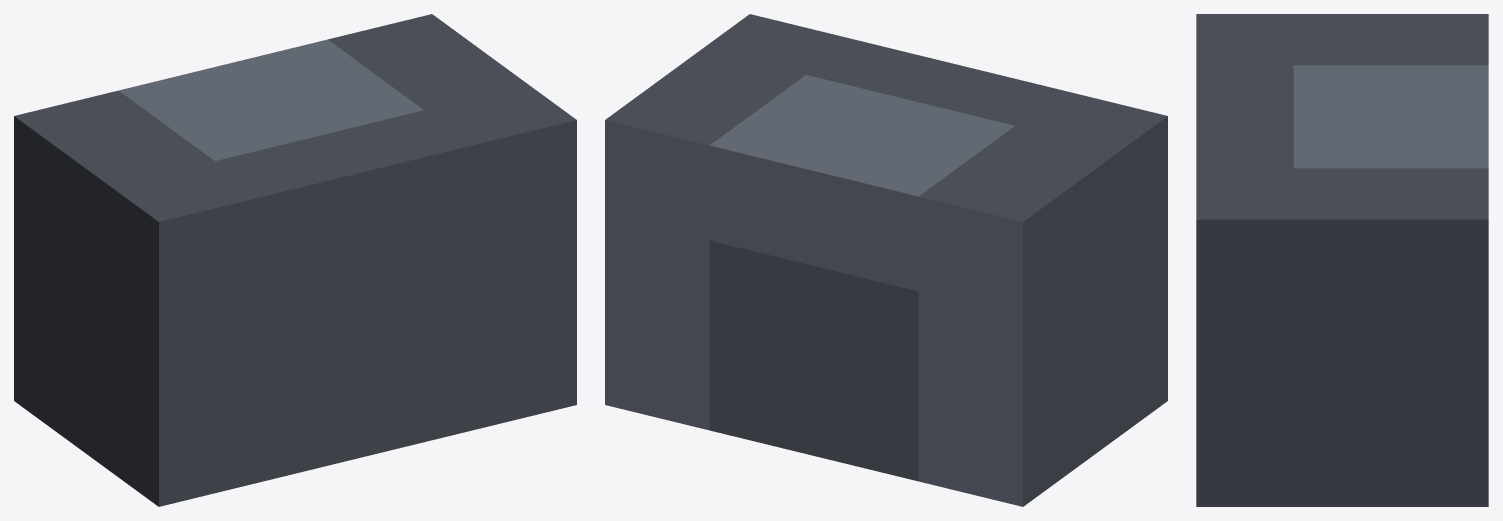
Rendered from L_Leg_ChampionsArmor.glb.
3 views of the same model, side by side, from view 1: azimuth 30°, elevation 25°; view 2: azimuth 150°, elevation 25°; view 3: azimuth 270°, elevation 25° (orthographic).
Parts seen in each view (by area): view 1: L_Leg_ChampionsArmor.001; view 2: L_Leg_ChampionsArmor.001; view 3: L_Leg_ChampionsArmor.001.
Boxes of the visible parts, x1,y1,x2,y2 form: L_Leg_ChampionsArmor.001: (14, 14, 576, 506); L_Leg_ChampionsArmor.001: (605, 14, 1167, 506); L_Leg_ChampionsArmor.001: (1196, 14, 1488, 506).
Bounding box in the file's own units: 31.25 × 20.35 × 18.75.
Materials: 1 (1 with a texture image).
